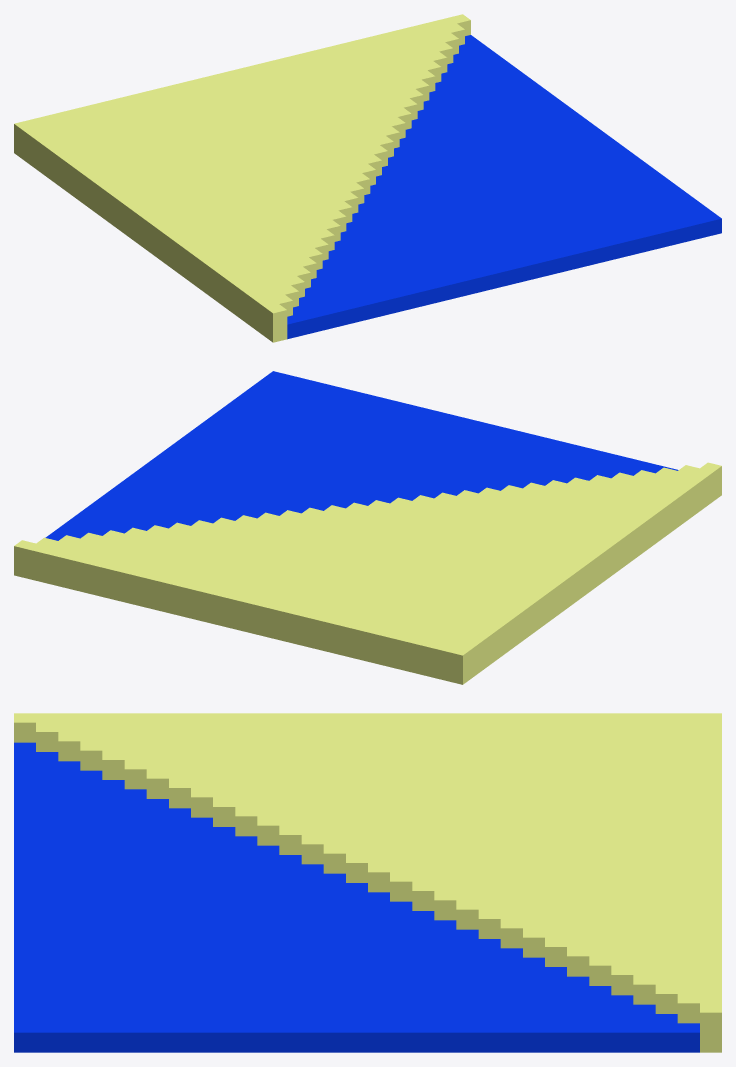
Rendered from sand-water.obj.
3 views of the same model, one above another, from view 1: azimuth 30°, elevation 25°; view 2: azimuth 150°, elevation 25°; view 3: azimuth 270°, elevation 25° (orthographic). The views are drawn at different scales.
Parts seen in each view (by area): view 1: sand-water; view 2: sand-water; view 3: sand-water.
Boxes of the visible parts, x1,y1,x2,y2 form: sand-water: [14, 14, 721, 342]; sand-water: [14, 371, 721, 684]; sand-water: [14, 713, 721, 1052].
Size of the model in its own units: 32 by 2 by 32.
1 material, 1 textured.
